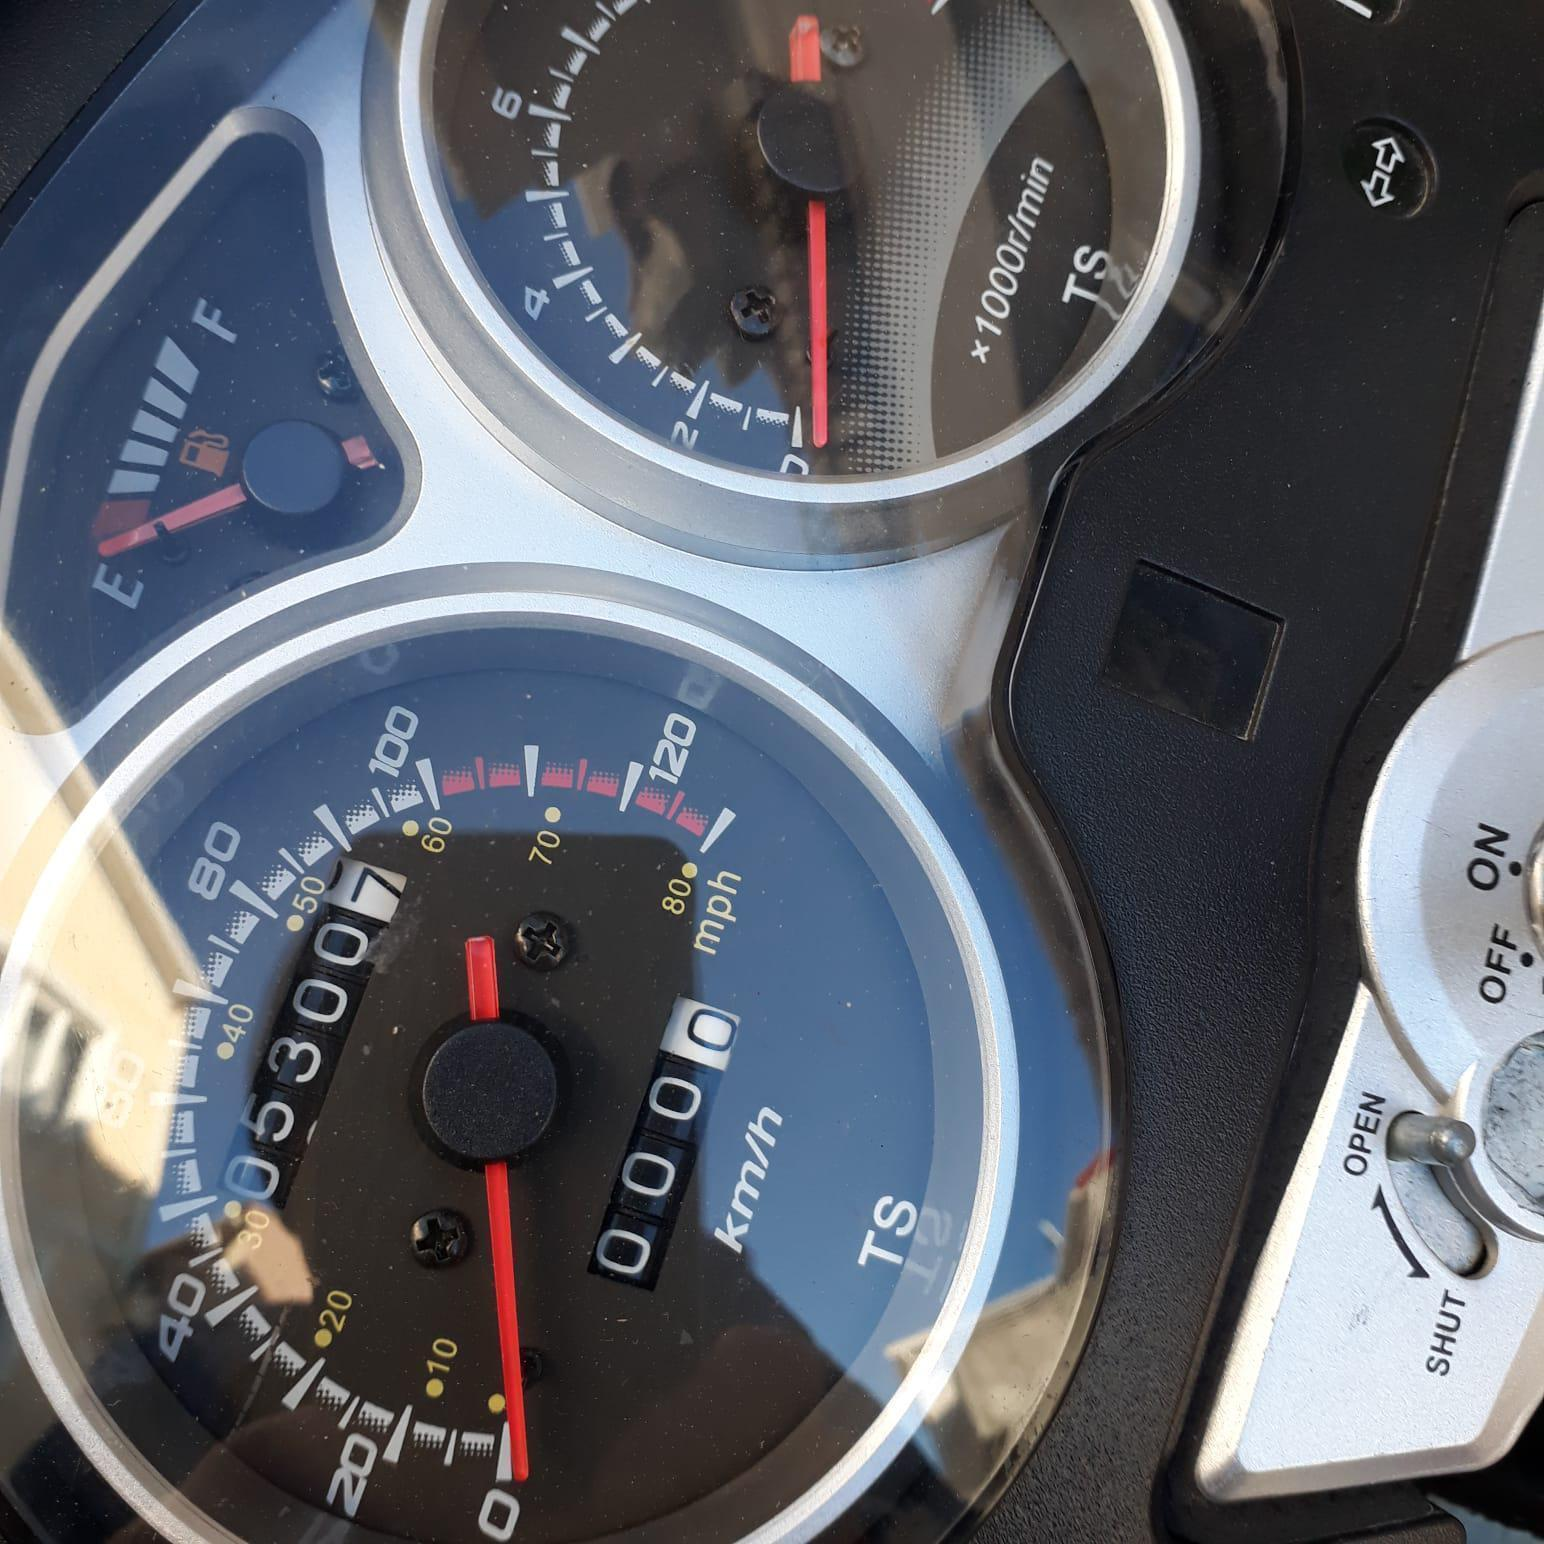0: (221, 1152, 281, 1200), (291, 977, 349, 1024), (311, 920, 369, 967), (228, 1002, 253, 1024), (298, 875, 325, 894)
3: (266, 1034, 322, 1083)
4: (221, 1024, 247, 1043)
5: (238, 1092, 296, 1142), (290, 892, 320, 915)
7: (349, 865, 404, 903)
odometer: (215, 853, 410, 1212)
